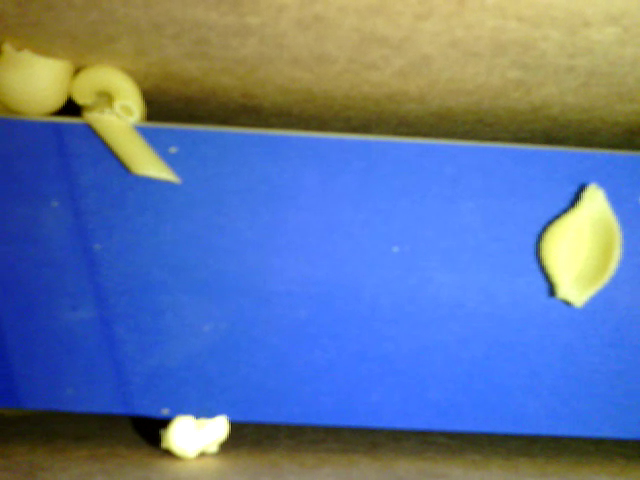elbow: (68, 65, 143, 122)
penne: (87, 116, 185, 185)
shell: (539, 180, 621, 311), (2, 41, 71, 114)
